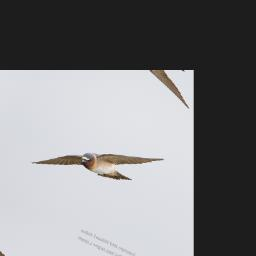Swallow: (30, 107, 167, 213)
